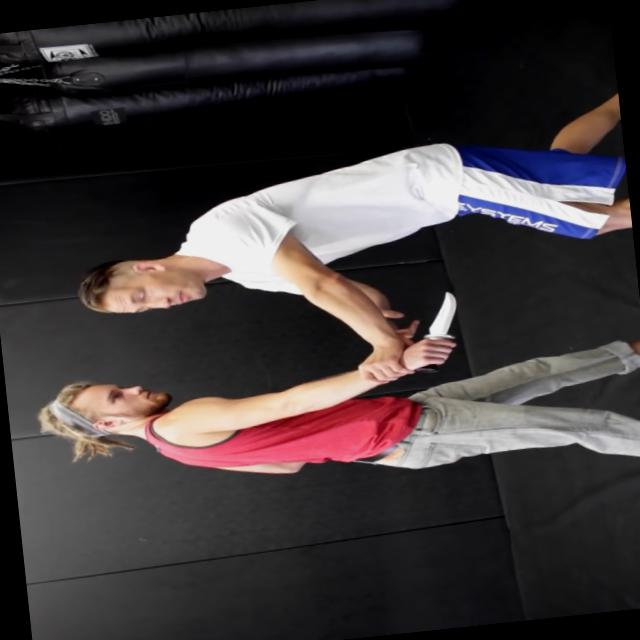knife: (406, 282, 473, 376)
